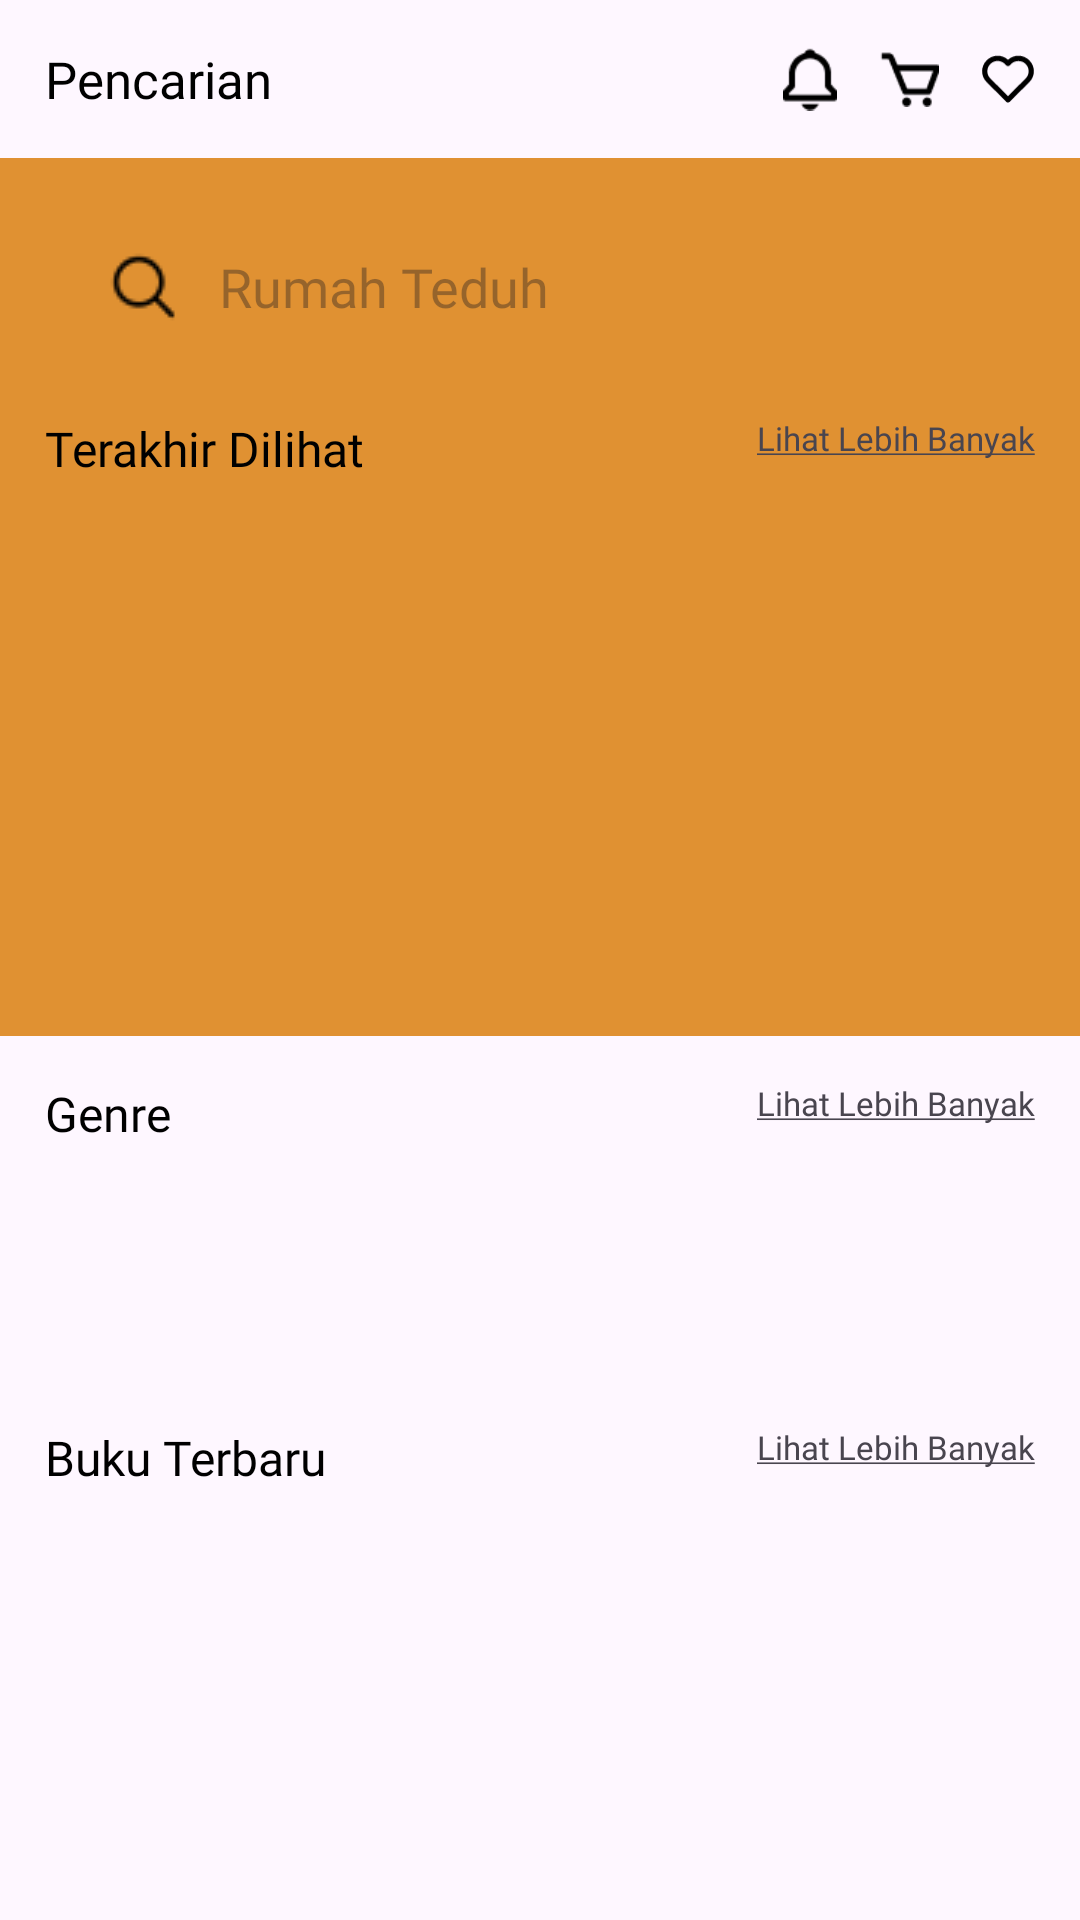

Where icons sit on this 1080 × 1920 app screen, as box=[x1, y1, x2, y2]:
cart: box=[881, 52, 939, 107]
notification: box=[783, 48, 837, 111]
wishlist: box=[982, 55, 1034, 103]
